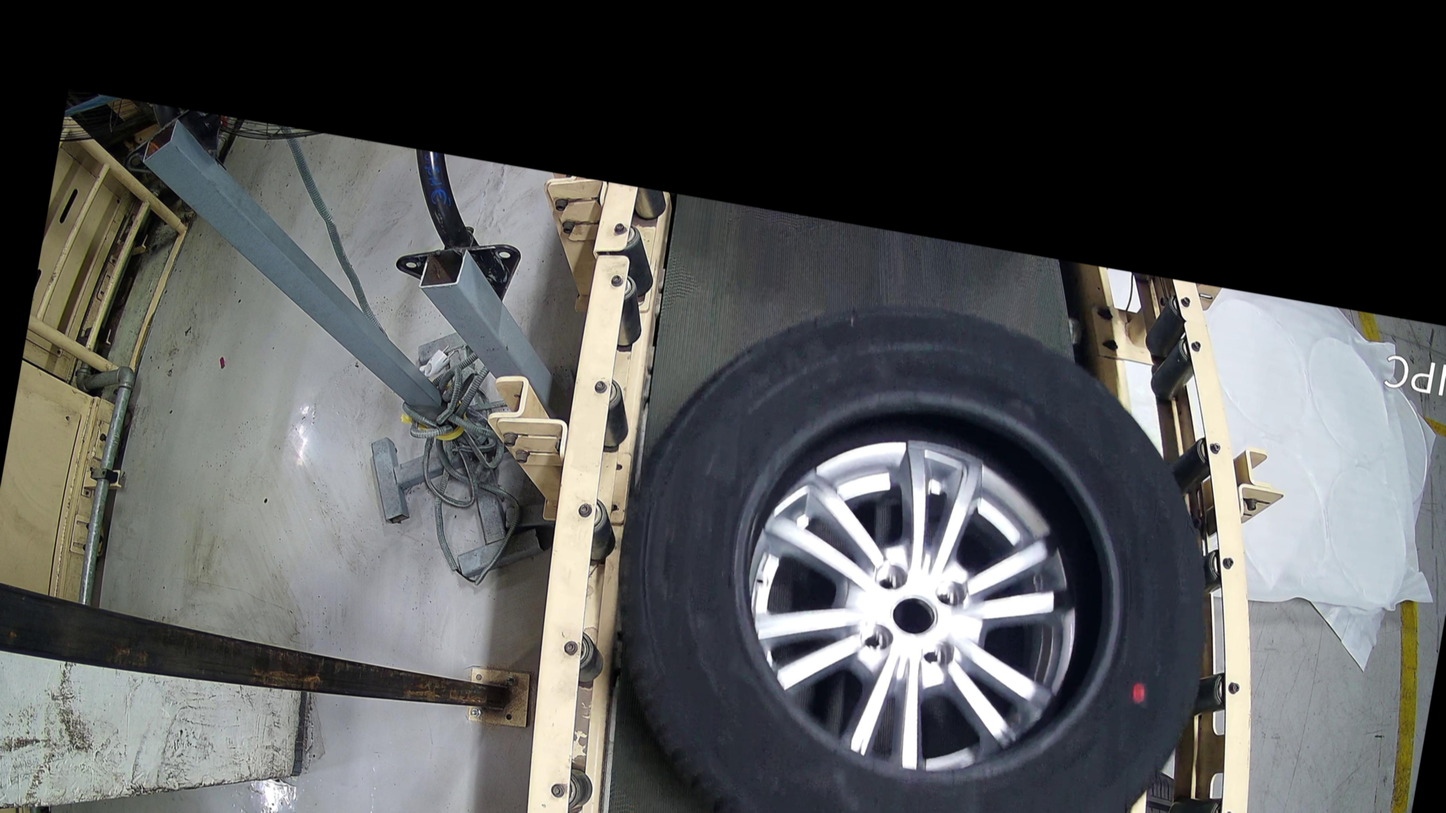white_wheel: (717, 406, 1109, 794)
